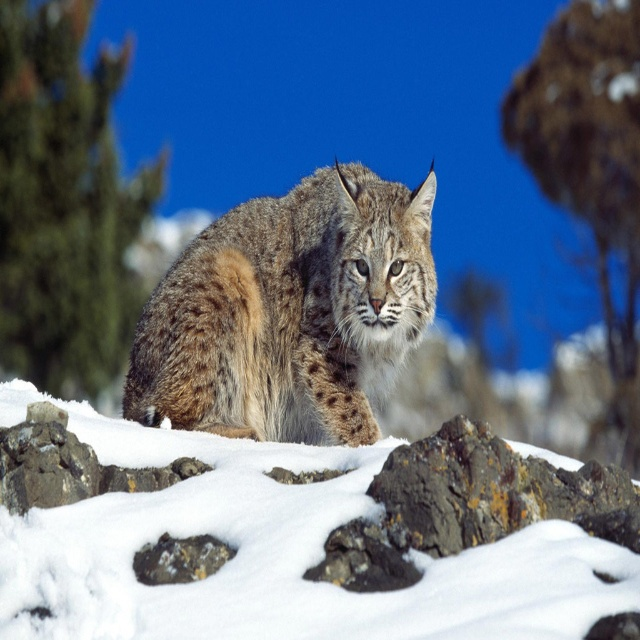Lynx: (118, 153, 447, 448)
